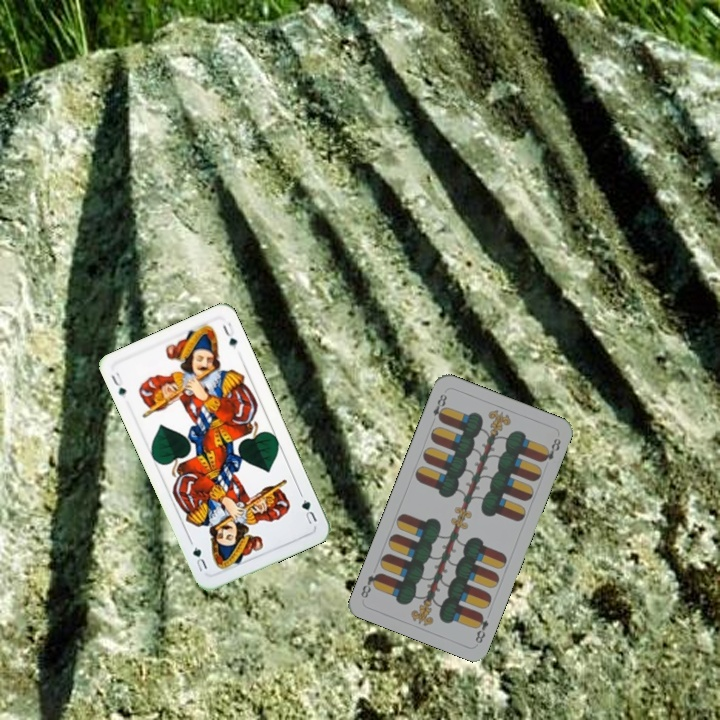E8: (471, 610, 491, 646), (429, 390, 450, 424)
GU: (296, 489, 320, 528), (107, 367, 129, 398)
